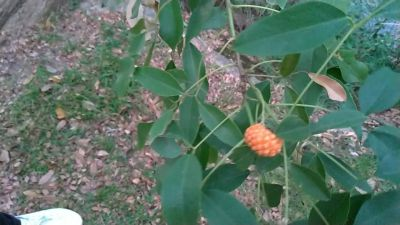eggs: (244, 120, 283, 157)
